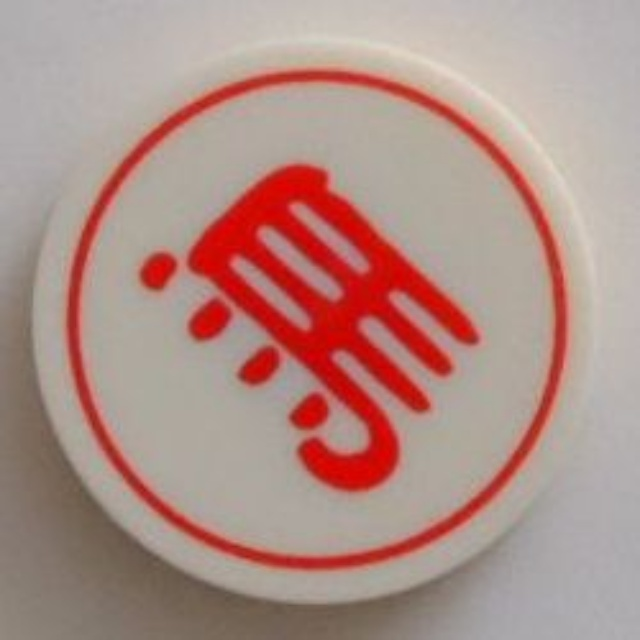red_ma: (22, 34, 610, 610)
